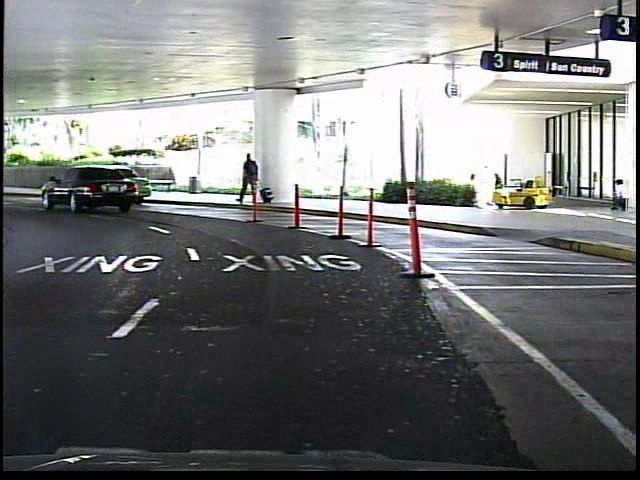person: (238, 150, 265, 210), (606, 175, 632, 214)
